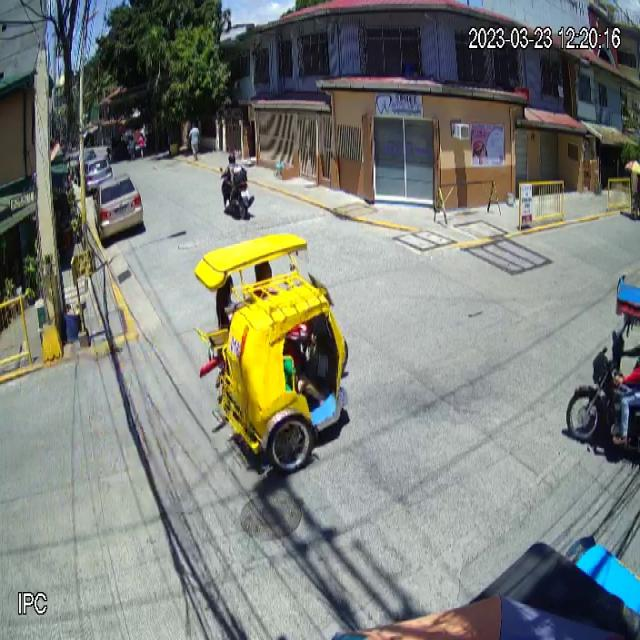Tricycle: (192, 228, 352, 476)
